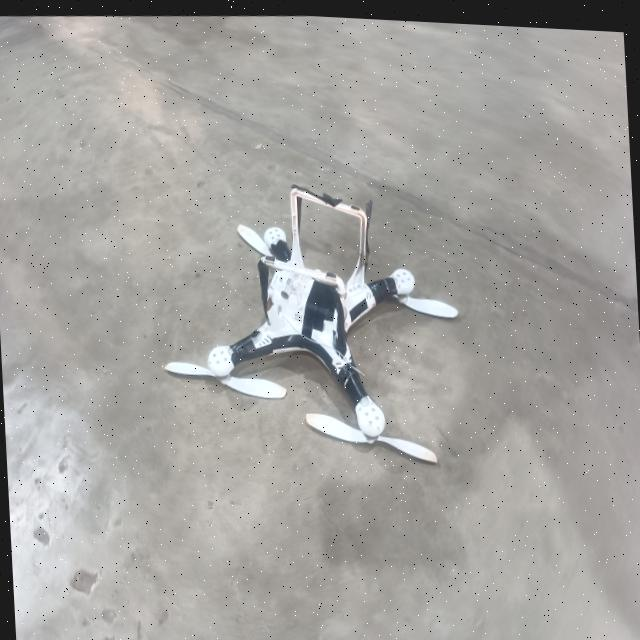drone: (197, 167, 430, 459)
